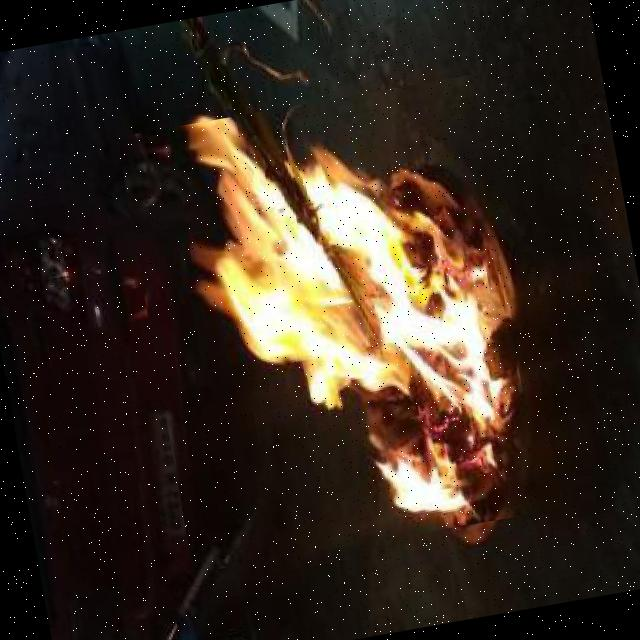fire: (116, 72, 561, 573)
